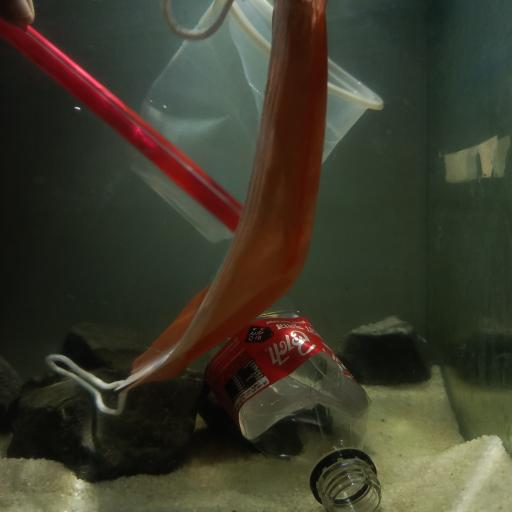mask: (56, 1, 328, 410)
plastic_bottle: (200, 303, 381, 512)
plastic_cup: (124, 0, 386, 247)
plastic_straw: (2, 20, 243, 228)
